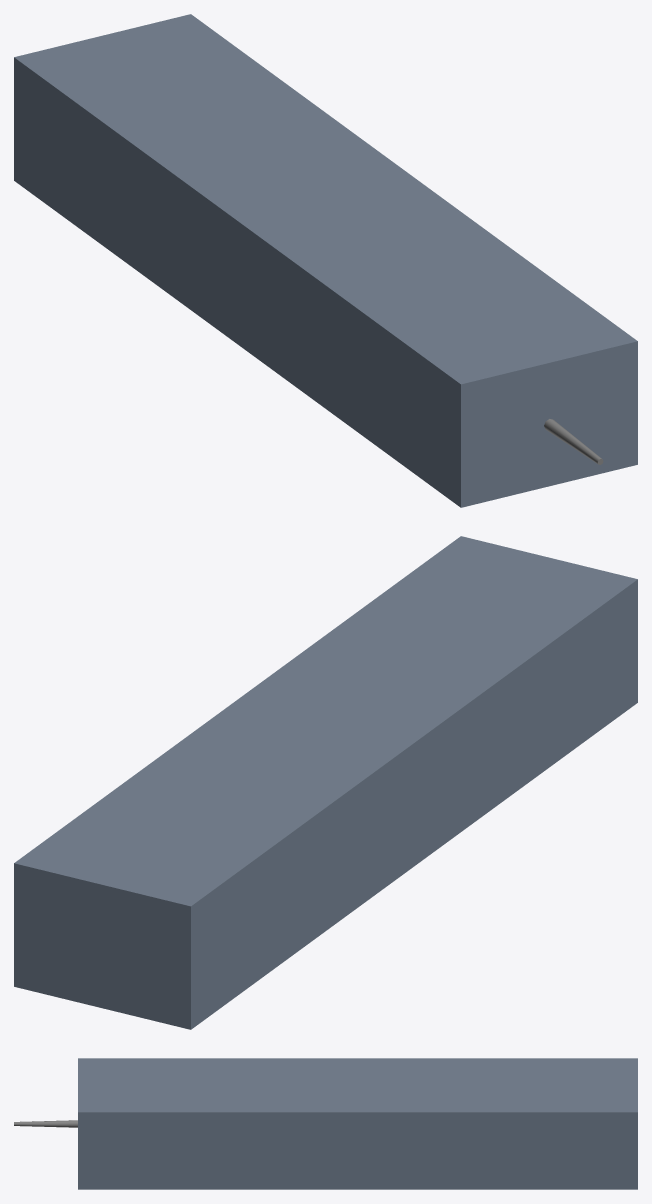
The model's file is montparnasse.glb.
3 renders of one model, top to bottom at view 1: azimuth 30°, elevation 25°; view 2: azimuth 150°, elevation 25°; view 3: azimuth 270°, elevation 25°, orthographic. The views are drawn at different scales.
Visible parts, largest first — view 1: Tour Montparnasse; view 2: Tour Montparnasse; view 3: Tour Montparnasse.
Part boxes in pixels (<box>): Tour Montparnasse: <box>14,14,637,507</box>; Tour Montparnasse: <box>14,536,637,1029</box>; Tour Montparnasse: <box>14,1058,637,1189</box>.
Bounding box in the file's own units: 48 × 32 × 234.
